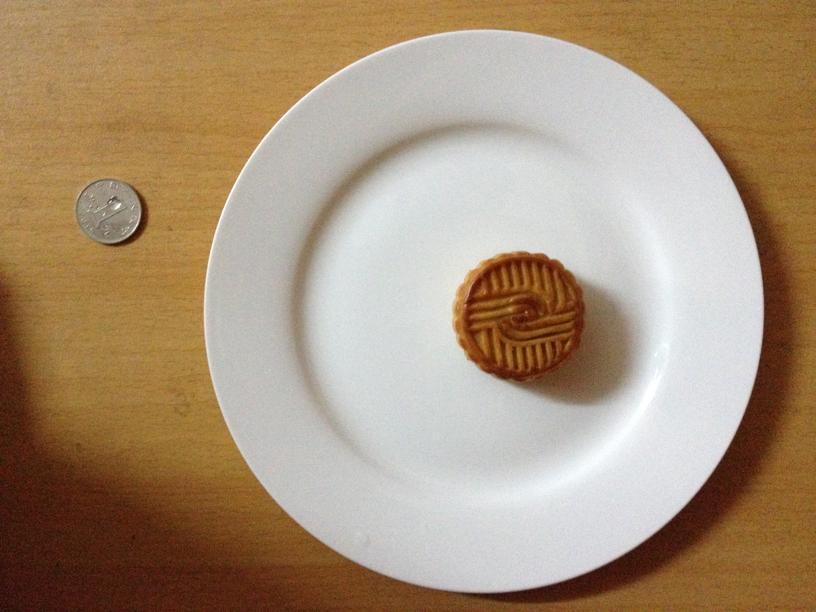coin: (75, 178, 141, 245)
mooncake: (451, 246, 586, 383)
